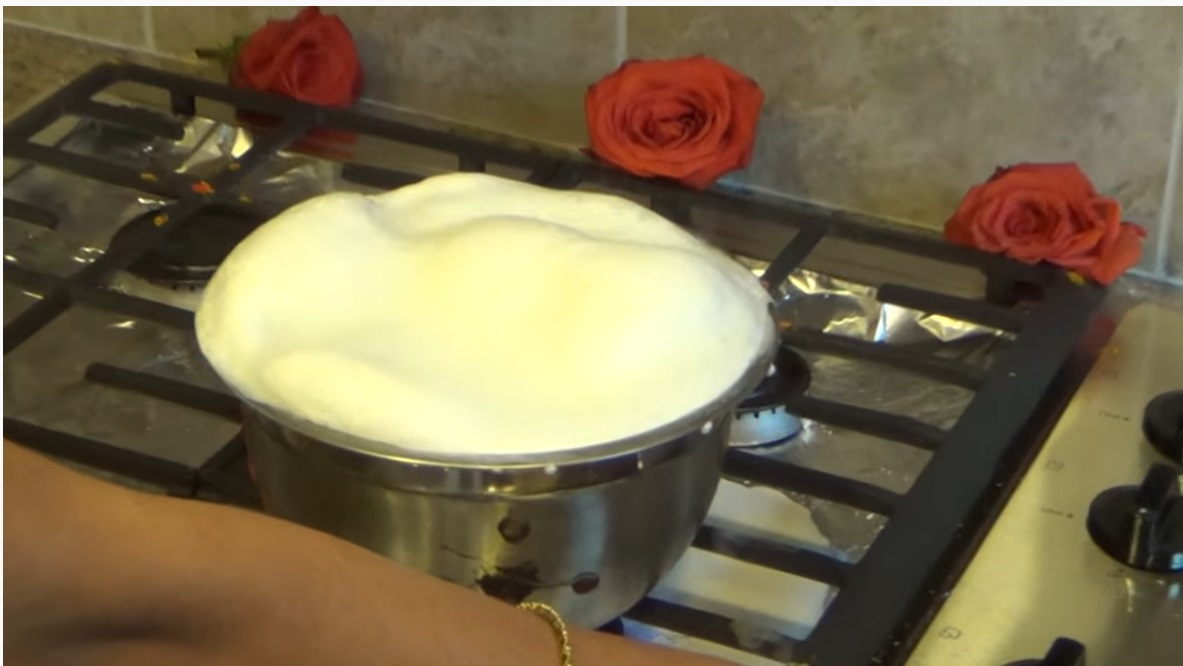Boiled: (156, 159, 790, 544)
